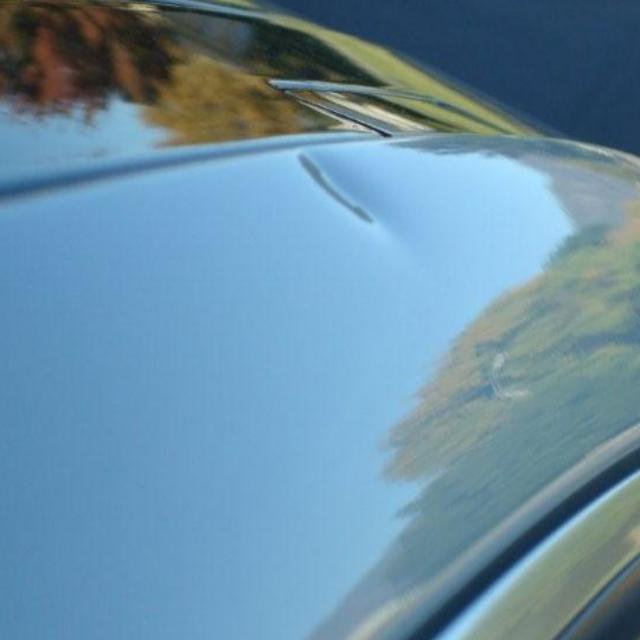dents: (276, 134, 392, 248)
